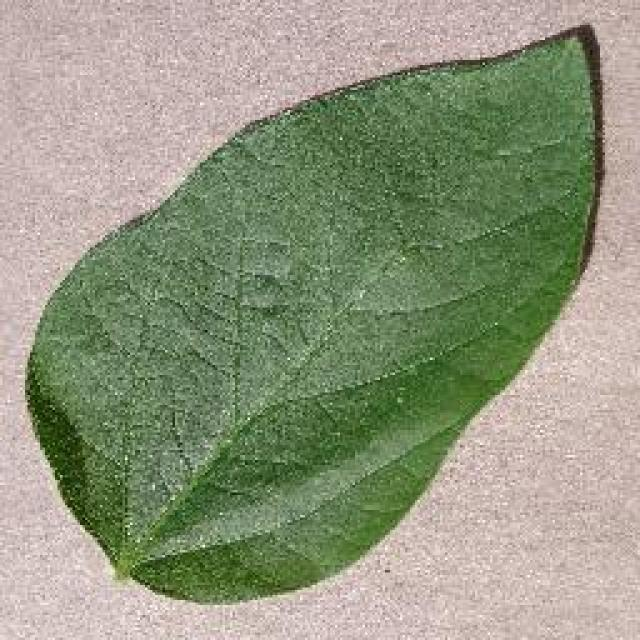Soy_healthy: (53, 73, 566, 580)
